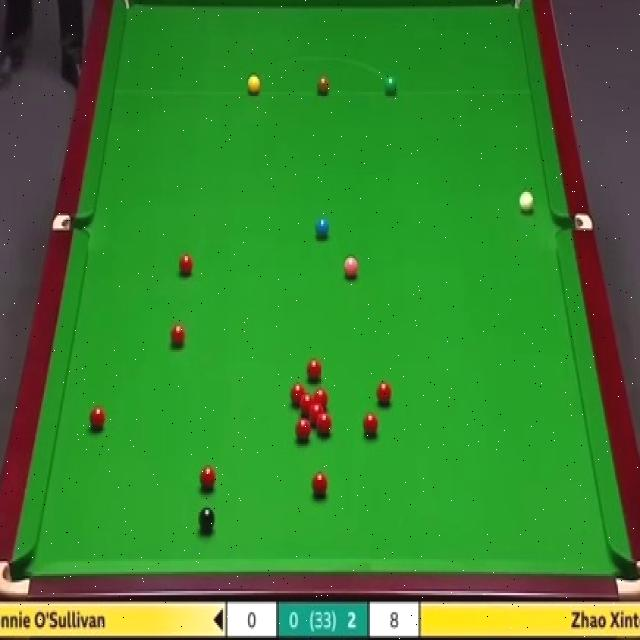black-ball: (198, 506, 218, 531)
blue-ball: (315, 215, 329, 242)
brown-ball: (316, 74, 330, 94)
green-ball: (384, 75, 398, 95)
pink-ball: (344, 258, 359, 281)
red-ball: (86, 403, 105, 431), (304, 358, 324, 382), (312, 471, 329, 499), (169, 321, 186, 349), (289, 381, 307, 407), (374, 382, 393, 405), (362, 413, 379, 438), (200, 465, 217, 490), (315, 415, 333, 438), (295, 417, 311, 442), (313, 389, 329, 414), (299, 394, 316, 417), (178, 256, 194, 275), (309, 405, 323, 423)
white-ball: (519, 190, 535, 216)
yellow-ball: (246, 74, 261, 94)
